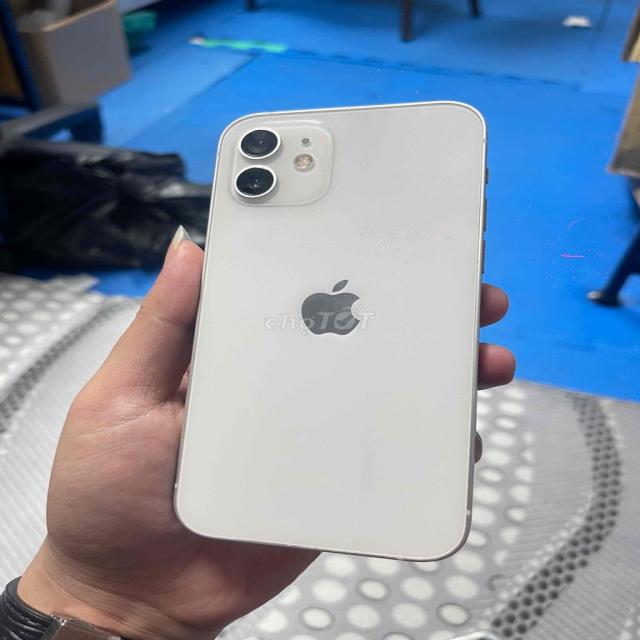gen_12_13: (173, 101, 496, 564)
